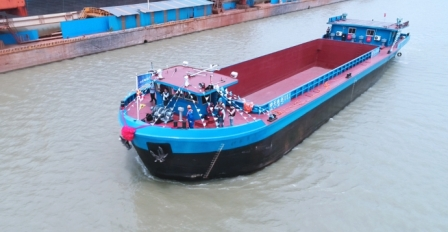boat: (114, 10, 418, 187)
